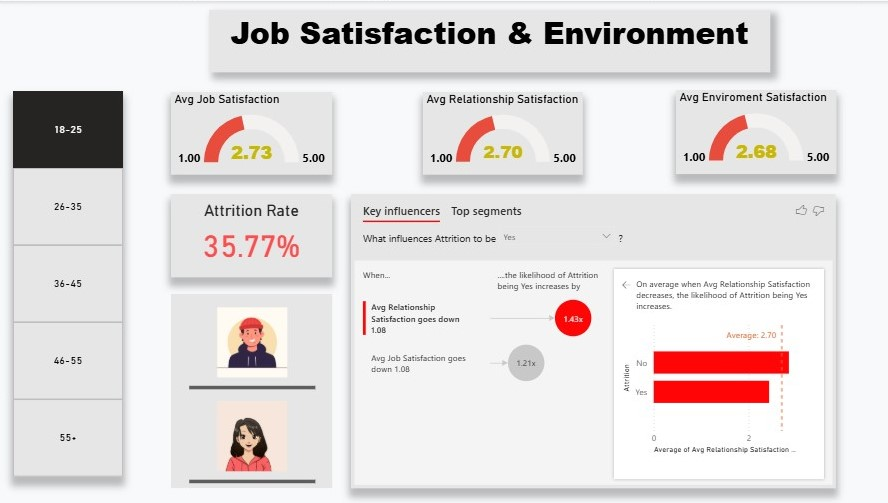

The dashboard page shown, as its layout file describes it:
{"tool":"powerbi","page":{"name":"Job Satisfaction & Environment","canvas":[1280,720],"ordinal":2},"visuals":[{"type":"textbox","box":[309,12.8,800.8,89.3],"z":0},{"type":"card","title":"Attrition Rate","fields":{"Values":["Measured.attrition rate"]},"box":[255.1,275,229.6,119.1],"z":1000},{"type":"gauge","fields":{"Y":["Measured.Avg Job Satisfaction"]},"box":[255.4,129.9,229.7,118.4],"z":2000},{"type":"gauge","fields":{"Y":["Measured.Avg Enviroment Satisfaction"]},"box":[976.1,126.9,228.8,119.8],"z":3000},{"type":"gauge","fields":{"Y":["Measured.Avg Relationship Satisfaction"]},"box":[615.1,130.4,228.2,117.6],"z":4000},{"type":"keyDriversVisual","fields":{"Target":["WA_Fn-UseC_-HR-Employee-Attrition.Attrition"],"ExplainBy":["Measured.Avg Enviroment Satisfaction","Measured.Avg Job Satisfaction","Measured.Avg Relationship Satisfaction"]},"box":[512.3,275.4,692.1,419.5],"z":5000},{"type":"advancedSlicerVisual","fields":{"Values":["WA_Fn-UseC_-HR-Employee-Attrition.Age Group"]},"box":[29.8,129,157.3,551.3],"z":6000},{"type":"slicer","fields":{"Values":["WA_Fn-UseC_-HR-Employee-Attrition.ImageURL"]},"box":[255.4,418.1,229.7,276.8],"z":7000}]}

Visuals, with their boxes in screenshot pixels (x1, y1, x2, y2), scaled from the page's 1280x720 canvas onto the 888x503 screenshot:
textbox: <bbox>214, 9, 770, 71</bbox>
"Attrition Rate" card: <bbox>177, 192, 336, 275</bbox>
gauge - Measured.Avg Job Satisfaction: <bbox>177, 91, 337, 173</bbox>
gauge - Measured.Avg Enviroment Satisfaction: <bbox>677, 89, 836, 172</bbox>
gauge - Measured.Avg Relationship Satisfaction: <bbox>427, 91, 585, 173</bbox>
keyDriversVisual - WA_Fn-UseC_-HR-Employee-Attrition.Attrition x Measured.Avg Enviroment Satisfaction: <bbox>355, 192, 836, 485</bbox>
advancedSlicerVisual - WA_Fn-UseC_-HR-Employee-Attrition.Age Group: <bbox>21, 90, 130, 475</bbox>
slicer - WA_Fn-UseC_-HR-Employee-Attrition.ImageURL: <bbox>177, 292, 337, 485</bbox>
